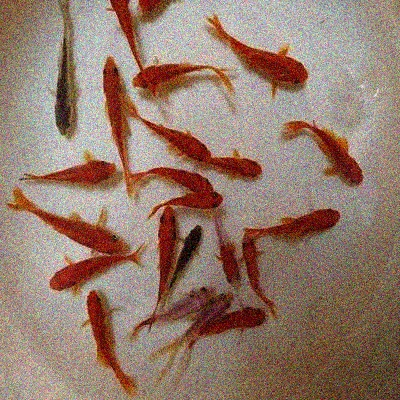fry: (213, 13, 324, 92), (7, 189, 128, 258), (34, 11, 82, 146), (79, 285, 139, 387), (287, 118, 374, 186), (133, 51, 233, 103), (34, 249, 148, 293), (95, 54, 137, 168), (15, 152, 123, 190), (144, 111, 215, 165), (237, 223, 279, 307), (256, 206, 350, 243), (149, 205, 181, 299), (204, 222, 246, 293), (136, 164, 220, 194), (177, 211, 209, 282), (212, 147, 270, 184), (99, 1, 139, 54), (152, 189, 233, 212), (168, 280, 215, 318), (223, 306, 274, 337), (206, 287, 235, 327), (137, 1, 166, 17)
